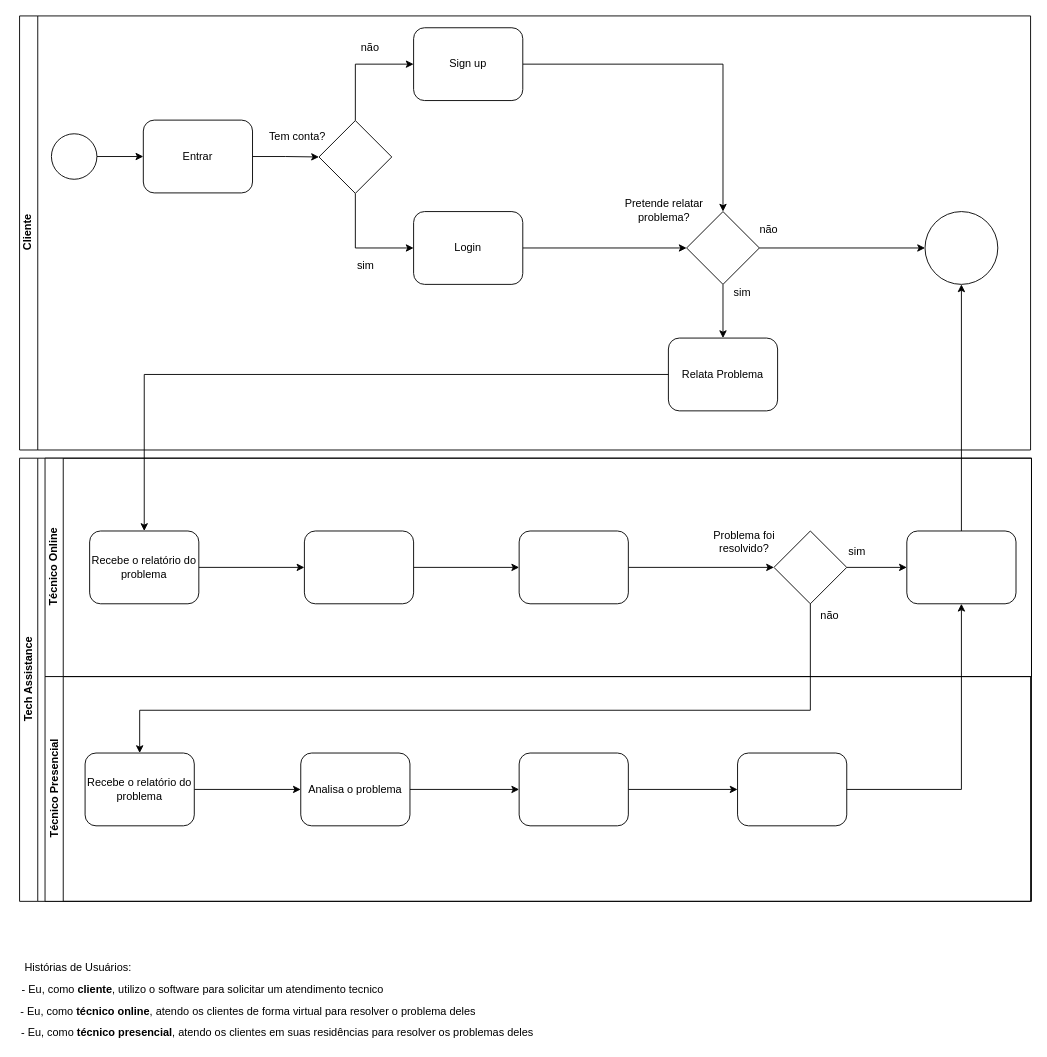
This 1047x1057 diagram has some shape labels left out. The shapes that lost their labels are listed below. From the top down, each one's centre as x and y in pixels, then its label:
At point 358,567: "Analisa problema".
At point 573,567: "Atendimento online".
At point 961,567: "Pagamento".
At point 573,789: "Atendimento presencial".
At point 792,789: "Considerações finais do técnico".
